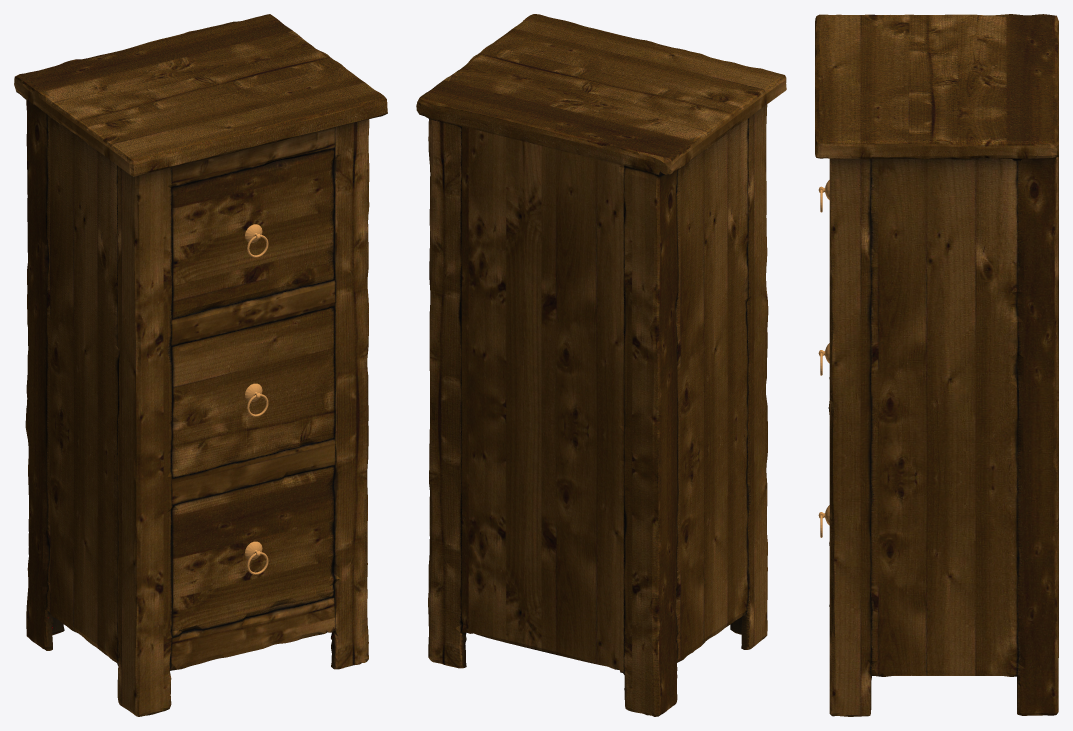
File: Scaffale_A1.obj
3 views of the same model, side by side, from view 1: azimuth 30°, elevation 25°; view 2: azimuth 150°, elevation 25°; view 3: azimuth 270°, elevation 25° (orthographic). The views are drawn at different scales.
Visible parts, largest first — view 1: Scaffale1, Sphere005; view 2: Scaffale1; view 3: Scaffale1, Sphere005.
Part boxes in pixels (x1,y1,x2,y2): Scaffale1: (14, 14, 387, 716); Sphere005: (245, 224, 268, 574); Scaffale1: (416, 14, 786, 716); Scaffale1: (815, 14, 1058, 716); Sphere005: (818, 180, 829, 537).
Bounding box in the file's own units: 62.51 × 132 × 50.
